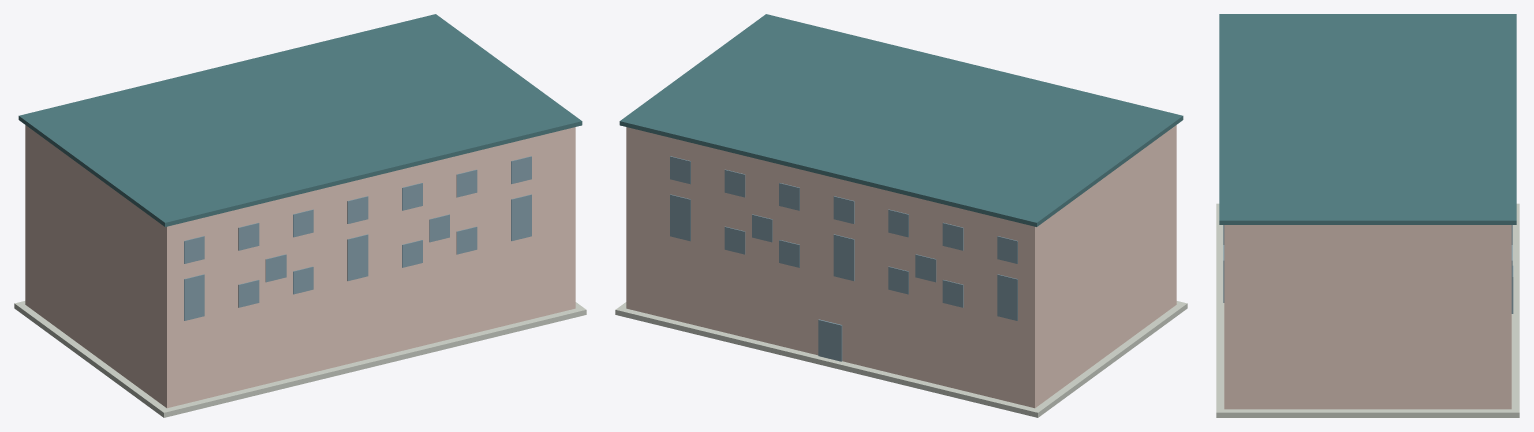
File: resort_hotel.glb
3 views of the same model, side by side, from view 1: azimuth 30°, elevation 25°; view 2: azimuth 150°, elevation 25°; view 3: azimuth 270°, elevation 25° (orthographic).
Parts seen in each view (by area): view 1: resort_hotel__walls, resort_hotel__roof, resort_hotel__plinth, resort_hotel__window.026, resort_hotel__window.012, resort_hotel__window.034, resort_hotel__window.020, resort_hotel__window.002, resort_hotel__window.030, resort_hotel__window.004; view 2: resort_hotel__walls, resort_hotel__roof, resort_hotel__plinth, resort_hotel__front_door, resort_hotel__window.027, resort_hotel__window.013, resort_hotel__window.035, resort_hotel__window.021, resort_hotel__window.003, resort_hotel__window.031, resort_hotel__window.005; view 3: resort_hotel__roof, resort_hotel__walls, resort_hotel__plinth.
Part boxes in pixels (x1,y1,x2,y2): resort_hotel__walls: [25, 125, 575, 408]; resort_hotel__roof: [18, 14, 582, 226]; resort_hotel__plinth: [14, 301, 586, 417]; resort_hotel__window.026: [238, 222, 259, 250]; resort_hotel__window.012: [238, 280, 259, 307]; resort_hotel__window.034: [456, 169, 477, 197]; resort_hotel__window.020: [456, 226, 477, 254]; resort_hotel__window.002: [265, 254, 286, 282]; resort_hotel__window.030: [347, 196, 368, 223]; resort_hotel__window.004: [347, 234, 368, 262]; resort_hotel__walls: [626, 125, 1176, 408]; resort_hotel__roof: [619, 14, 1183, 226]; resort_hotel__plinth: [615, 301, 1187, 417]; resort_hotel__front_door: [818, 319, 842, 361]; resort_hotel__window.027: [942, 222, 963, 250]; resort_hotel__window.013: [942, 280, 963, 307]; resort_hotel__window.035: [724, 169, 745, 197]; resort_hotel__window.021: [724, 226, 745, 254]; resort_hotel__window.003: [915, 254, 936, 282]; resort_hotel__window.031: [833, 196, 854, 223]; resort_hotel__window.005: [833, 234, 854, 262]; resort_hotel__roof: [1219, 14, 1516, 224]; resort_hotel__walls: [1224, 225, 1511, 409]; resort_hotel__plinth: [1216, 203, 1519, 417].
Size of the model in its own units: 31 by 13.55 by 19.
